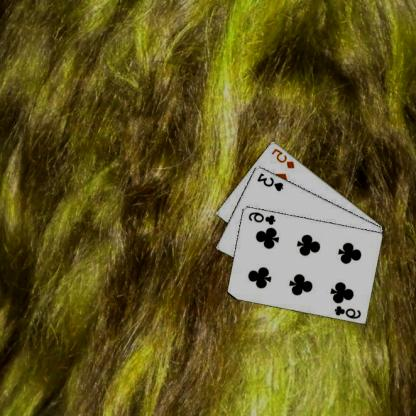3S: (256, 170, 286, 192)
5D: (270, 145, 298, 170)
6C: (247, 209, 278, 226), (333, 303, 364, 320)
